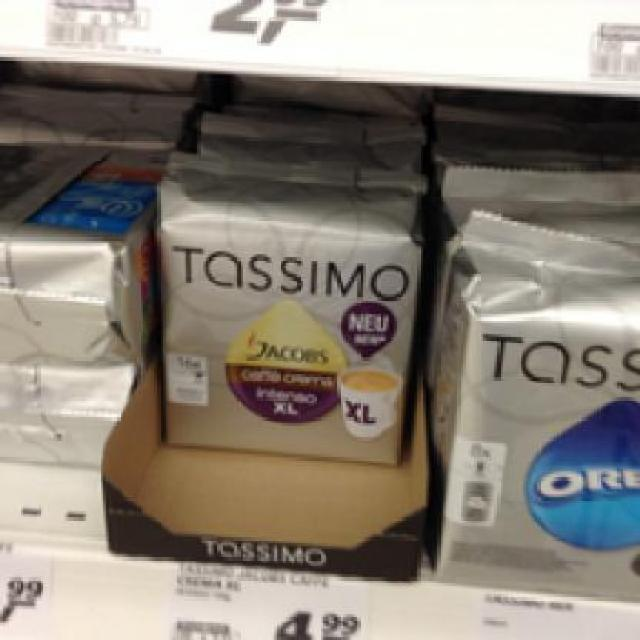Coffee: (150, 148, 424, 464), (422, 220, 638, 580)
